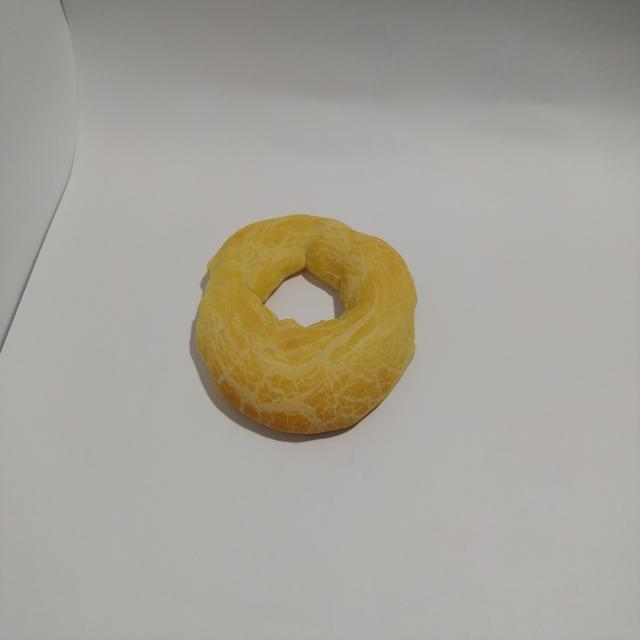Food: (178, 207, 428, 446)
